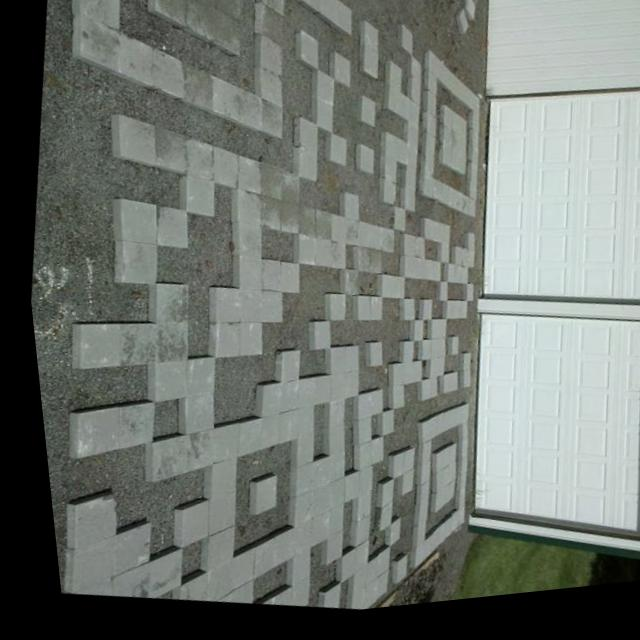qrcode: (1, 1, 544, 640)
